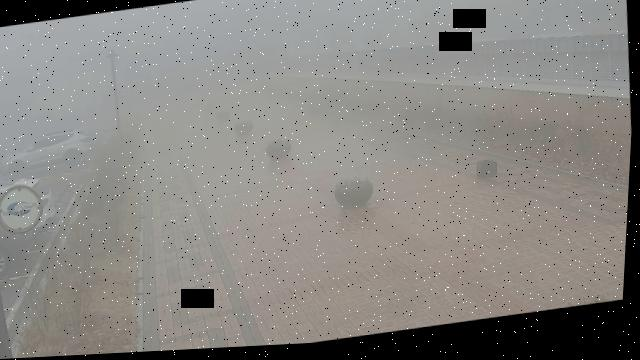bag: (477, 162, 502, 186)
